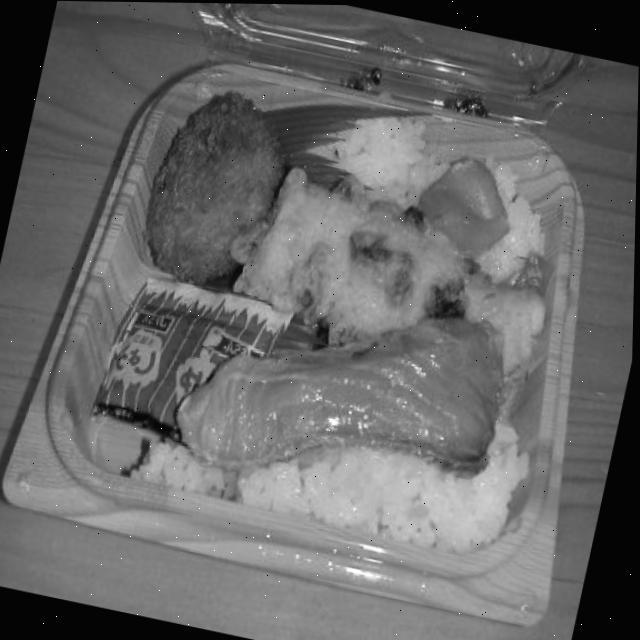熟制海鲜: (137, 240, 550, 536)
